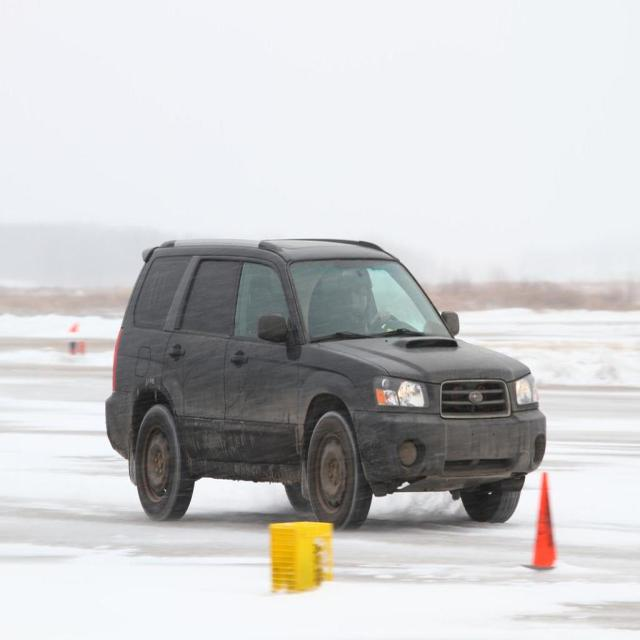car: (102, 230, 550, 580)
